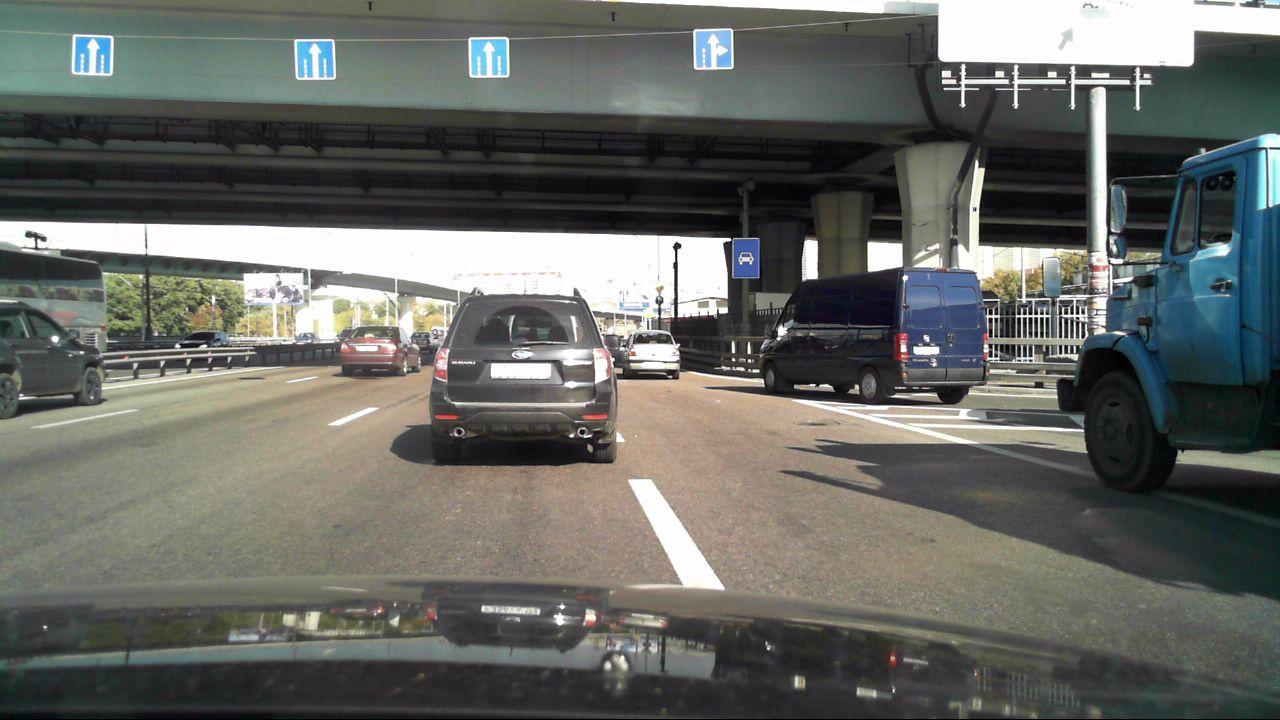5_15_2: (68, 32, 118, 80), (465, 36, 513, 79), (691, 26, 736, 71), (294, 37, 338, 83)
5_3: (728, 237, 760, 277)
